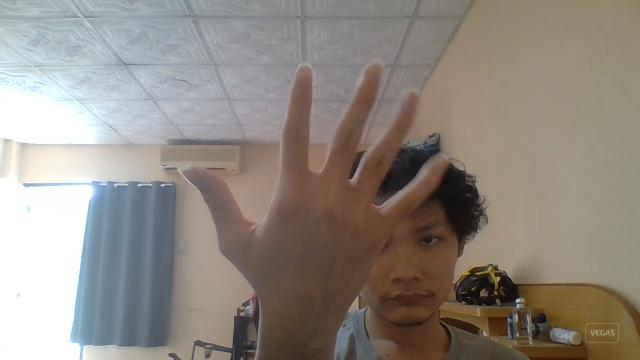backword: (176, 58, 448, 358)
